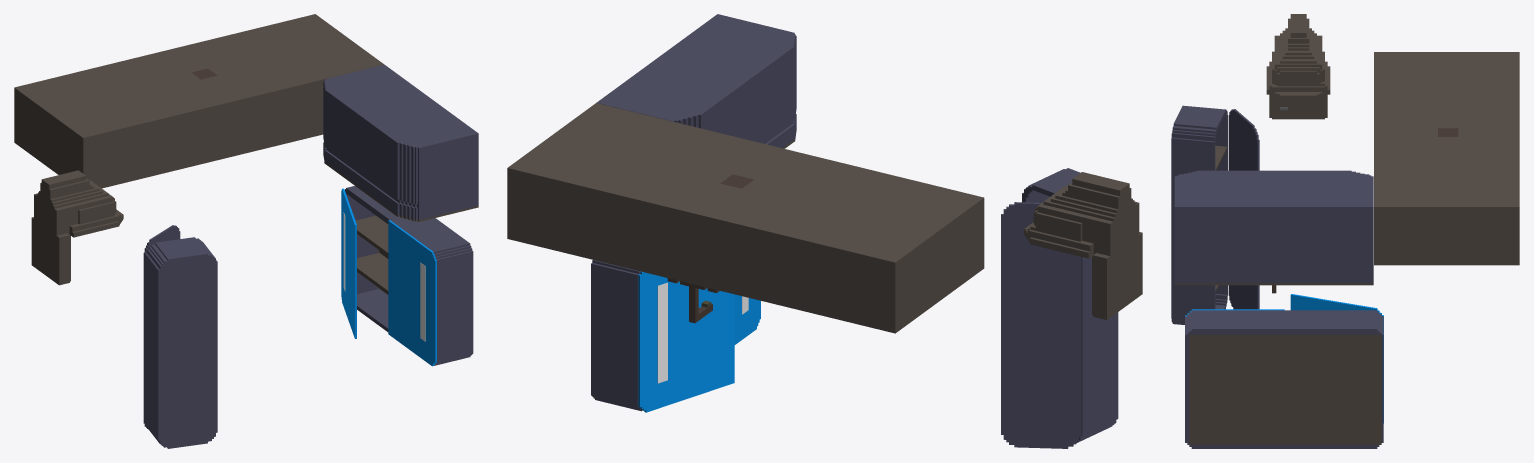
The model's file is Voxel_Bathroom.glb.
The picture shows the model from 3 angles, left to right: view 1: azimuth 30°, elevation 25°; view 2: azimuth 150°, elevation 25°; view 3: azimuth 270°, elevation 25°; orthographic projection. The views are drawn at different scales.
Visible parts, largest first — view 1: unnamed (×9); view 2: unnamed (×9); view 3: unnamed (×7).
Boxes of the visible parts, left/top/right/bottom form: unnamed (×9): left=14, top=14, right=478, bottom=448; unnamed (×9): left=507, top=14, right=1142, bottom=448; unnamed (×7): left=1171, top=14, right=1519, bottom=448.
Size of the model in its own units: 5.17 by 3.21 by 3.94.
7 materials, 5 textured.
